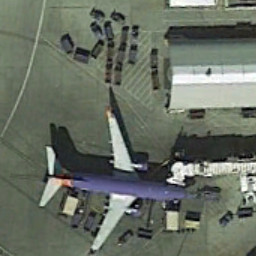Airplane: (13, 103, 204, 254)
